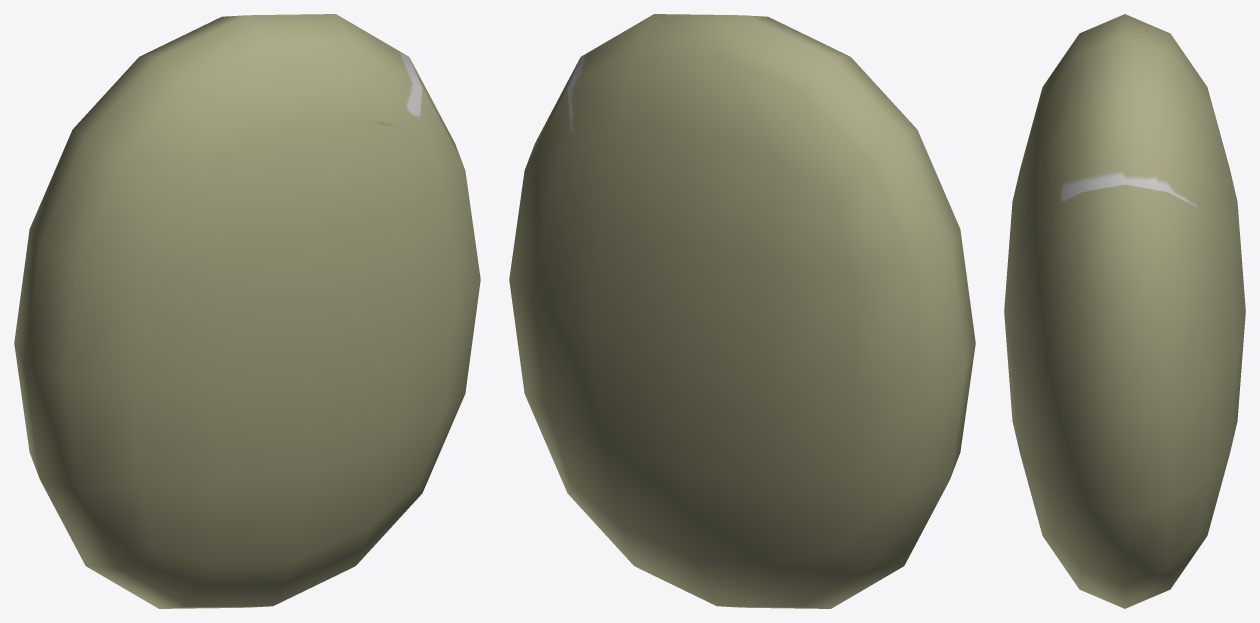
The model's file is Patela_Kneecap1.glb.
3 renders of one model, left to right at view 1: azimuth 30°, elevation 25°; view 2: azimuth 150°, elevation 25°; view 3: azimuth 270°, elevation 25°, orthographic. The views are drawn at different scales.
Visible parts, largest first — view 1: Dup patela.r.001; view 2: Dup patela.r.001; view 3: Dup patela.r.001.
Boxes of the visible parts, <box> form: Dup patela.r.001: <box>14,14,480,608</box>; Dup patela.r.001: <box>509,14,975,608</box>; Dup patela.r.001: <box>1004,14,1245,608</box>.
Bounding box in the file's own units: 0.1244 × 0.1581 × 0.0627.
Materials: 1 (1 with a texture image).
